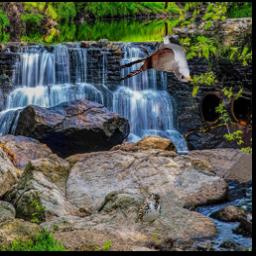Cuckoo: (121, 35, 195, 83)
Sparrow: (135, 193, 161, 228)
